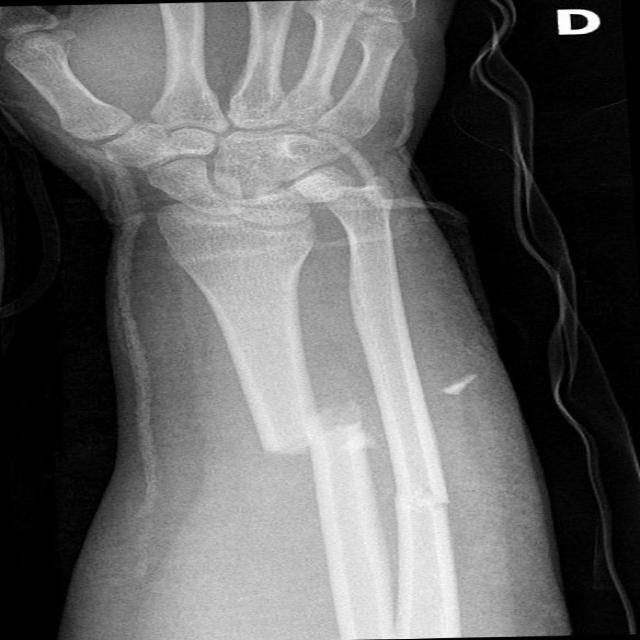Transverse: (228, 396, 378, 472)
Transverse Displaced: (366, 474, 487, 530)
